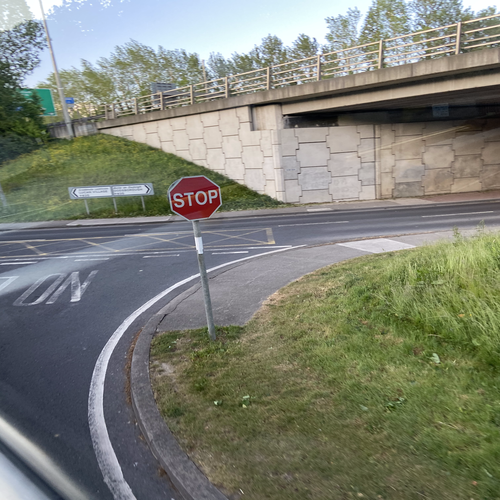Stop: (166, 175, 222, 221)
